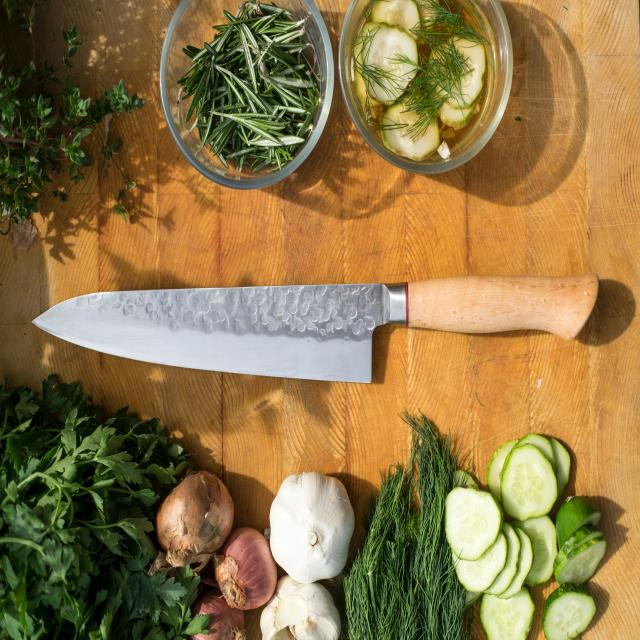knife: (31, 273, 602, 384)
